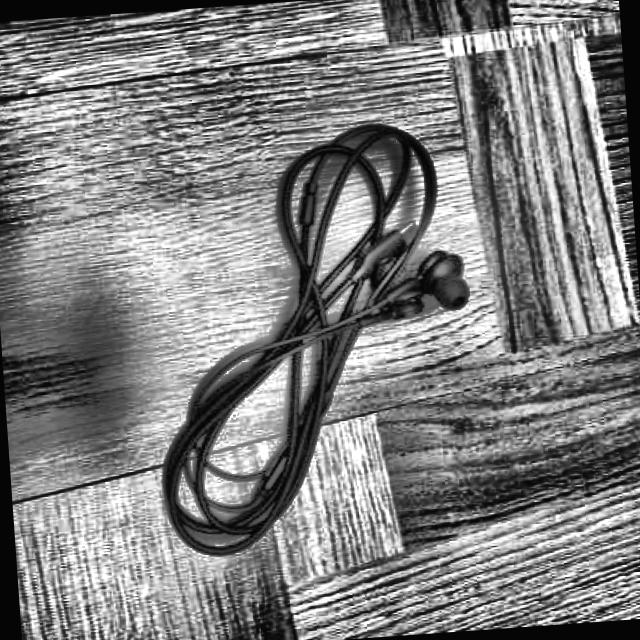Cable: (137, 115, 486, 561)
